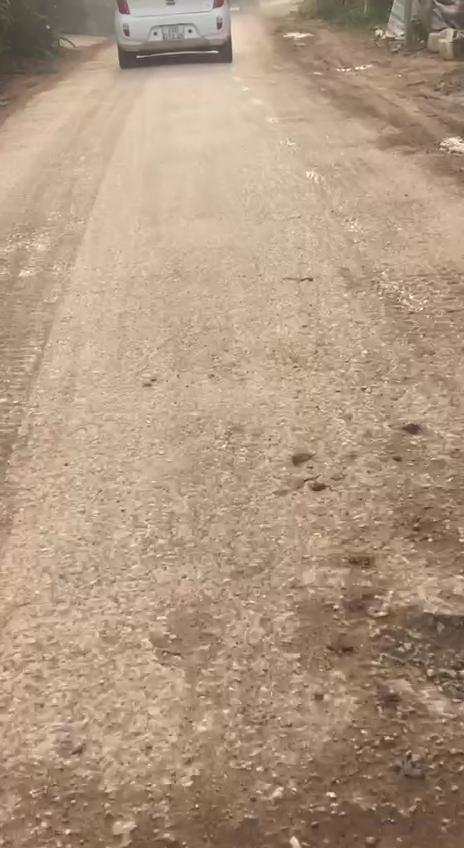pothole: (223, 571, 464, 848)
